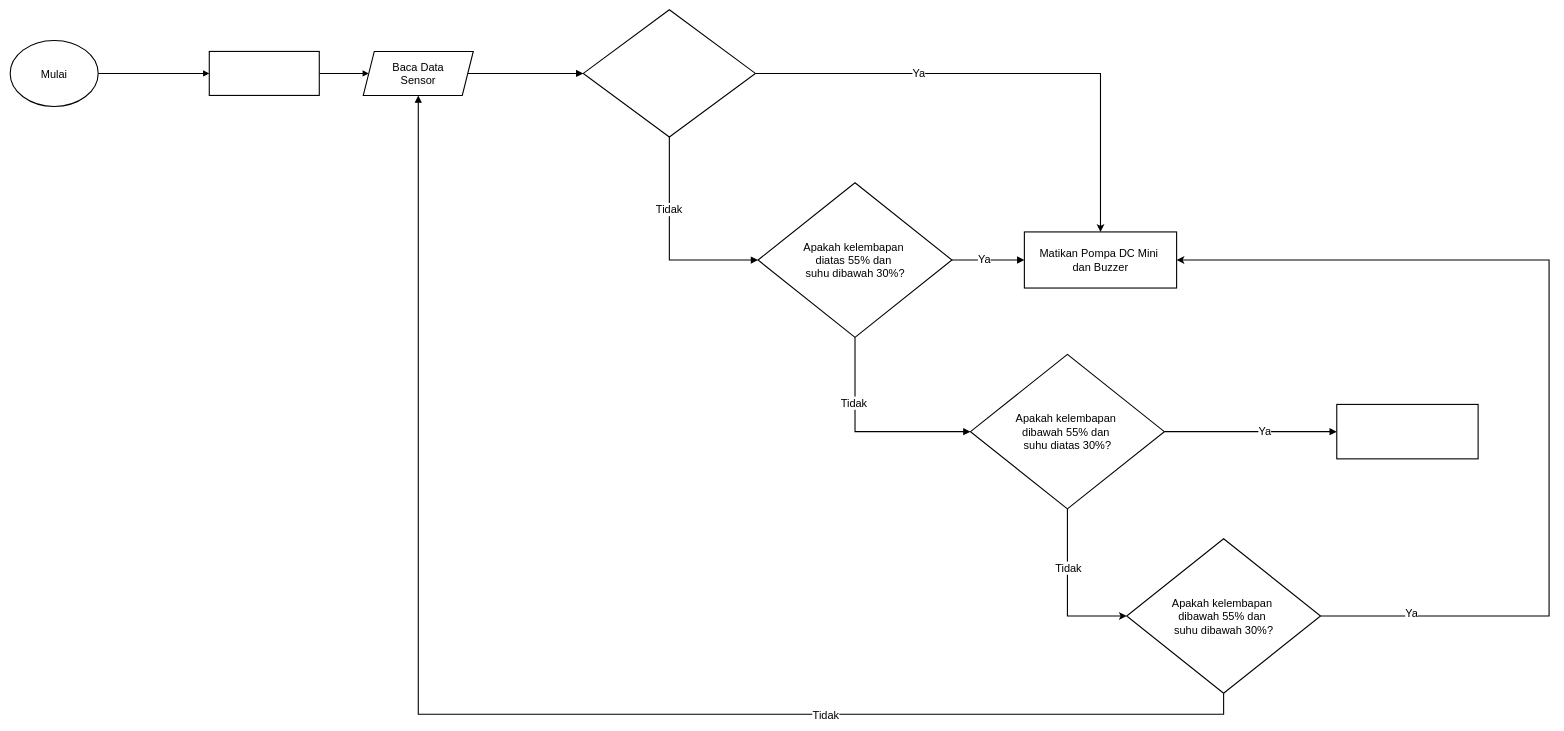
The diagram is 1564 pixels wide and 731 high, and some of its shapes have lost their labels. Each missing label, with the centre of its shape:
"Aktifkan Pompa DC Mini dan Buzzer" belongs at [1407,431].
"Inisialisasi Sistem" belongs at [264,73].
"Kelembapan di atas 55% dan suhu diatas 30% derajat celcius?" belongs at [669,73].
